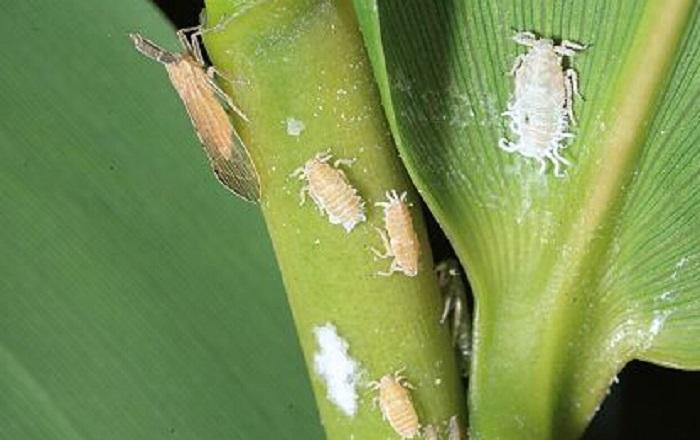Delphacidae: (507, 26, 589, 138), (286, 146, 369, 233), (368, 188, 423, 278), (364, 363, 420, 439)
